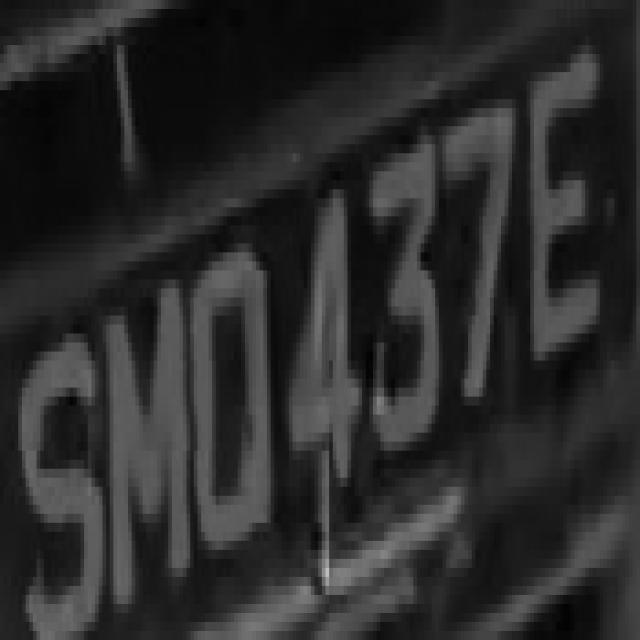3: (358, 144, 450, 460)
4: (282, 189, 373, 496)
7: (413, 90, 512, 442)
E: (520, 27, 614, 397)
M: (95, 234, 198, 577)
Q: (172, 243, 278, 577)
S: (18, 324, 98, 640)
